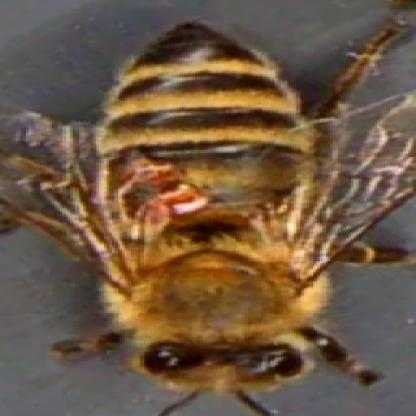bee: (70, 18, 335, 402)
vaoora: (127, 161, 187, 186), (163, 188, 209, 212)
